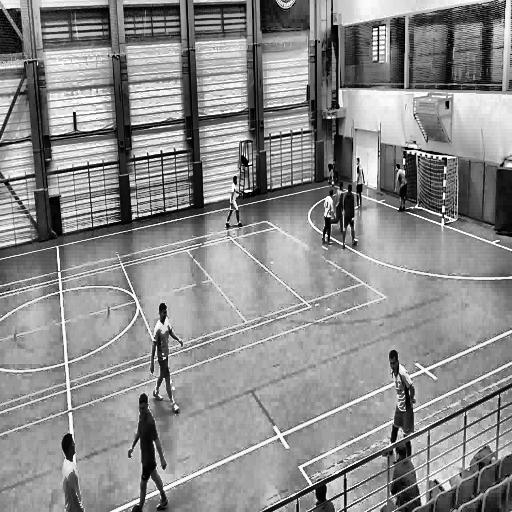ball: (331, 178, 337, 188)
player: (124, 391, 169, 512), (380, 348, 416, 464), (151, 302, 185, 416), (60, 429, 86, 512), (342, 184, 360, 250), (224, 174, 244, 230), (393, 163, 409, 216), (322, 190, 336, 246), (330, 181, 344, 233), (354, 156, 366, 210), (326, 157, 336, 184)
